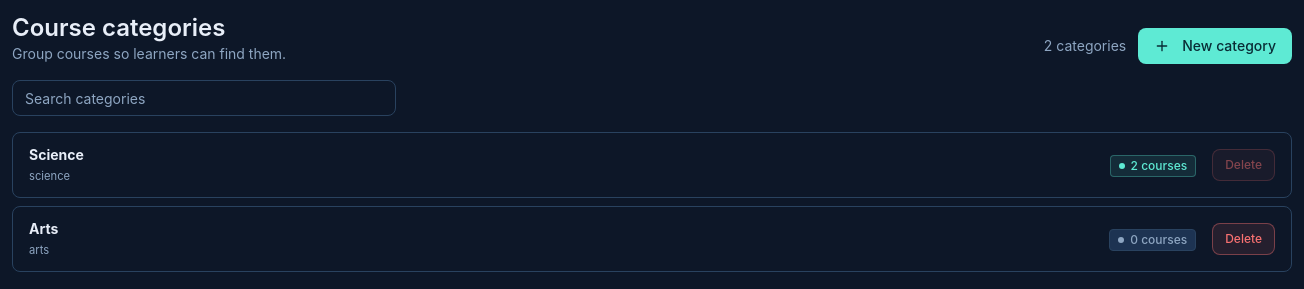
Test case: CategoriesPage › searches by name
The image size is (1304, 289).
Check: the text "Science" is shown, box x1=29 y1=146 x2=84 y2=163
Type "art" into the search field labelled "Search categories". click: (204, 98)
box: x1=12 y1=80 x2=396 y2=116
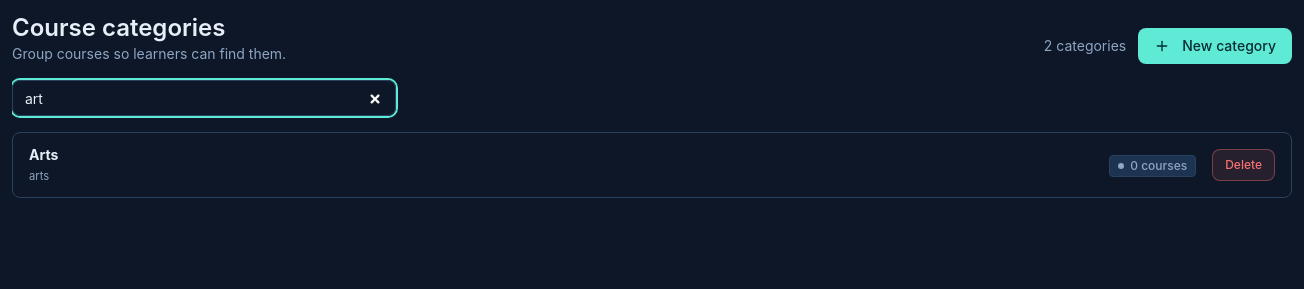
Check: the text "Arts" is shown, box x1=29 y1=146 x2=58 y2=163
Check: the text "Science" is gone
